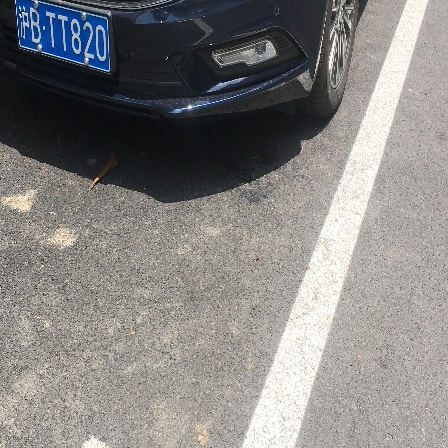plate: (11, 2, 115, 79)
